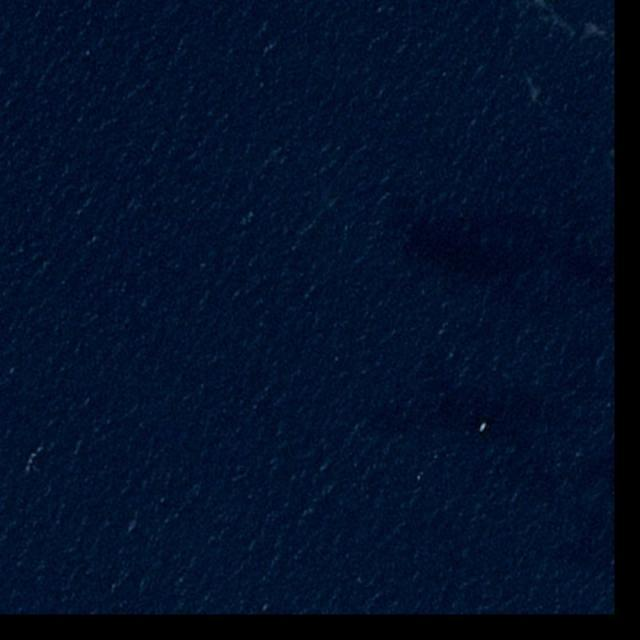ship: (479, 422, 489, 433)
